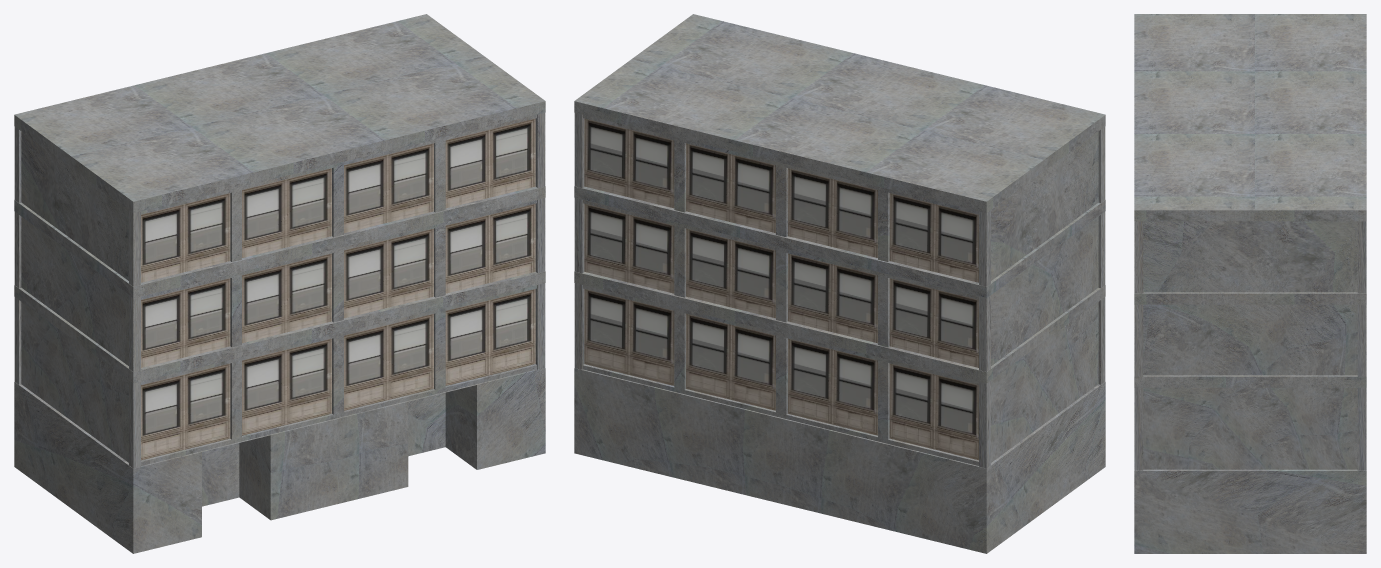
The model's file is building2.fbx.
The picture shows the model from 3 angles, left to right: view 1: azimuth 30°, elevation 25°; view 2: azimuth 150°, elevation 25°; view 3: azimuth 270°, elevation 25°; orthographic projection. The views are drawn at different scales.
Visible parts, largest first — view 1: windows; view 2: windows; view 3: windows.
Boxes of the visible parts, x1,y1,x2,y2 form: windows: (14,14,545,553); windows: (574,14,1105,553); windows: (1134,14,1366,553).
Size of the model in its own units: 1520 by 1240 by 760.
